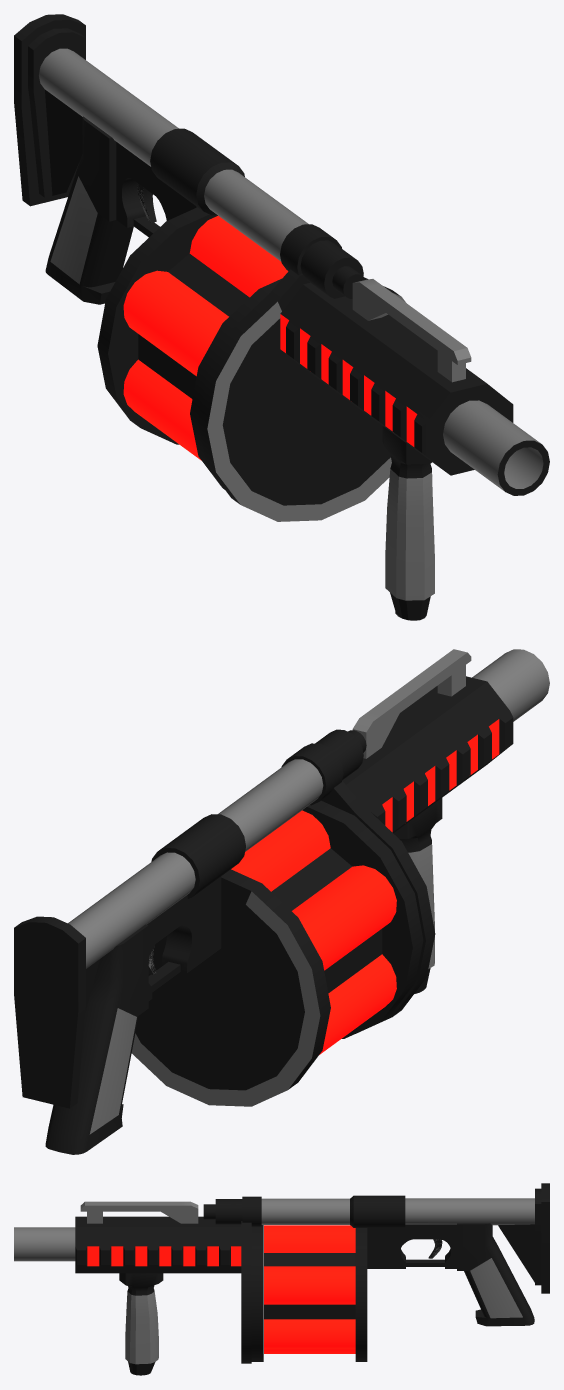
File: grenadelauncher.fbx
3 renders of one model, top to bottom at view 1: azimuth 30°, elevation 25°; view 2: azimuth 150°, elevation 25°; view 3: azimuth 270°, elevation 25°, orthographic. The views are drawn at different scales.
Visible parts, largest first — view 1: GL1; view 2: GL1; view 3: GL1.
Part boxes in pixels (bbox=[...]): GL1: bbox=[14, 14, 549, 620]; GL1: bbox=[14, 649, 549, 1154]; GL1: bbox=[14, 1183, 549, 1375].
Bounding box in the file's own units: 118 × 164 × 428.
